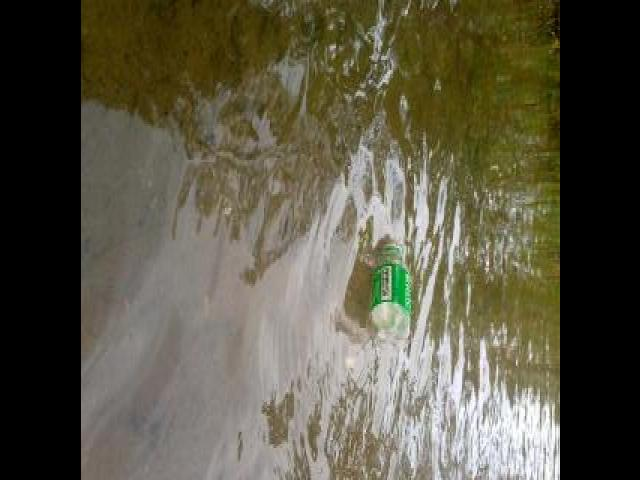Bottle: (363, 227, 412, 361)
